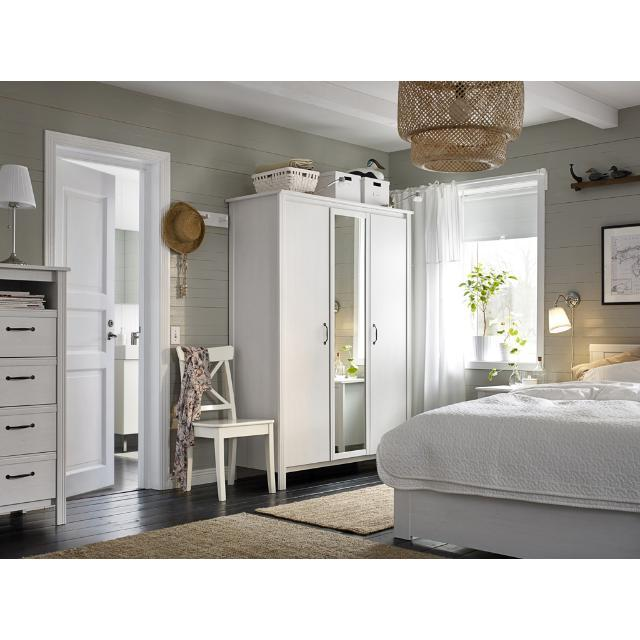bed: (378, 344, 640, 558)
chair: (176, 346, 275, 500)
dresser: (229, 190, 411, 488), (0, 264, 70, 524)
lamp: (0, 165, 36, 265), (549, 292, 580, 333)
light: (398, 81, 525, 172)
plant: (460, 264, 516, 362)
rug: (29, 512, 442, 558), (256, 485, 394, 534)
